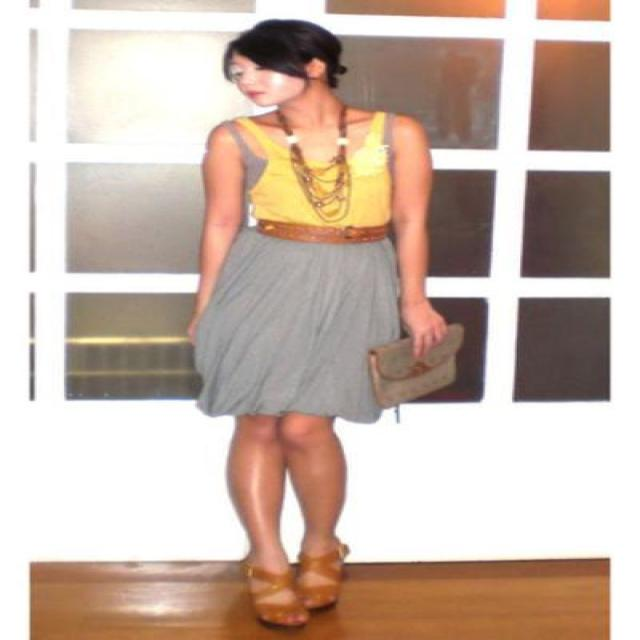shoe: (211, 554, 341, 620)
skirt: (173, 118, 400, 429)
